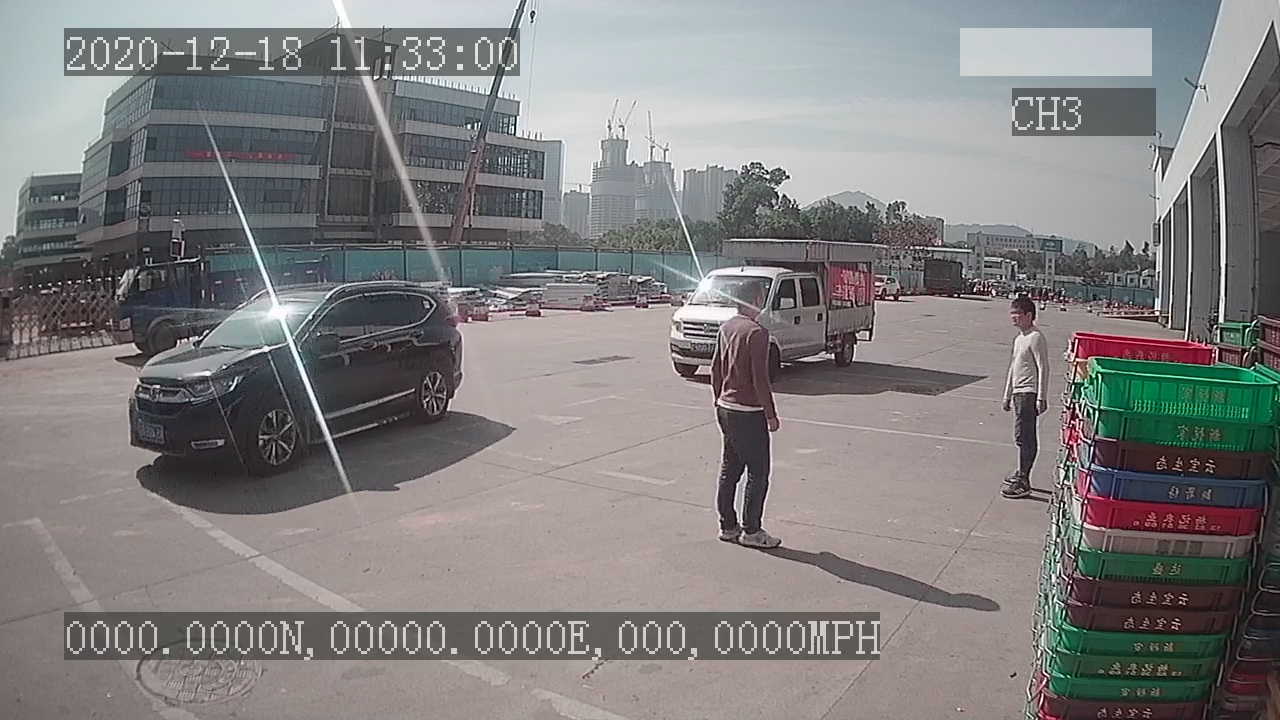person: (983, 291, 1052, 498)
